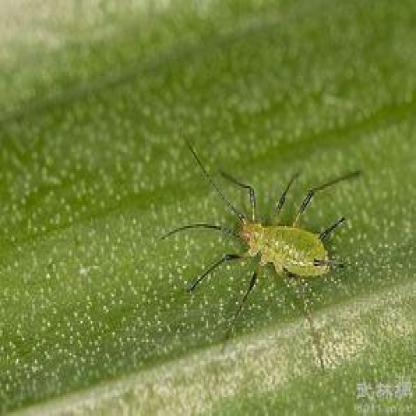aphid: (166, 142, 361, 342)
